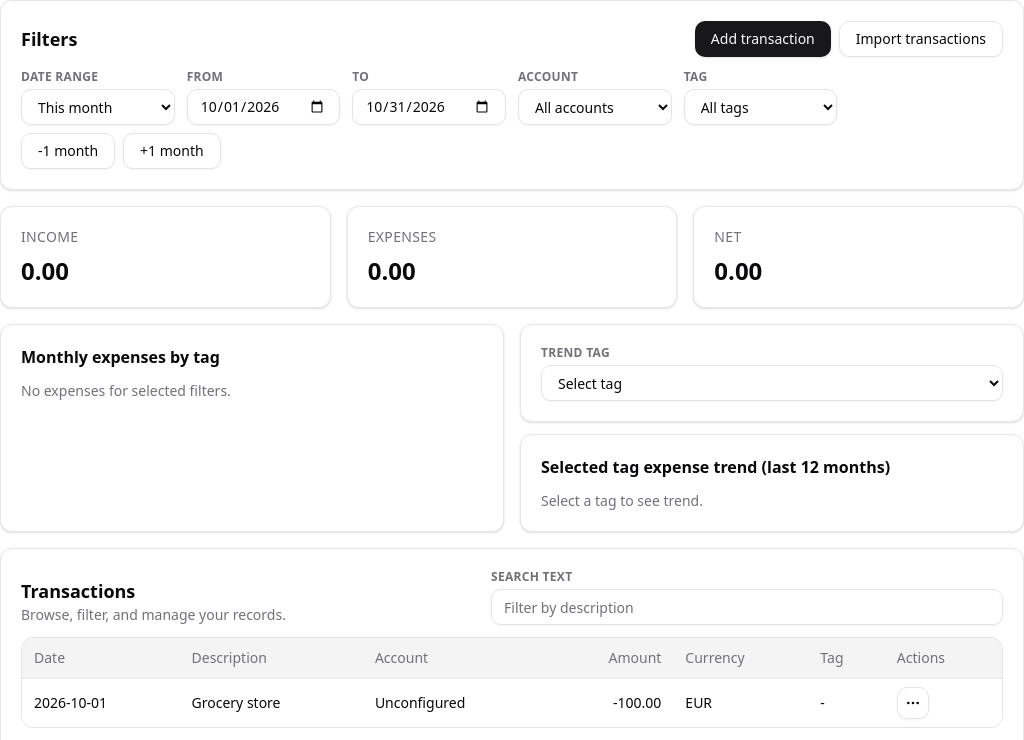
Test: TransactionsPage import dialog gating › enables Preview import with no warning for a configured account
This screenshot has width=1024, height=740.
Expected: the text "Grocery store" is shown, [180,678,363,726]
Click the button "Import transactions": (921, 39) [839,21,1003,57]
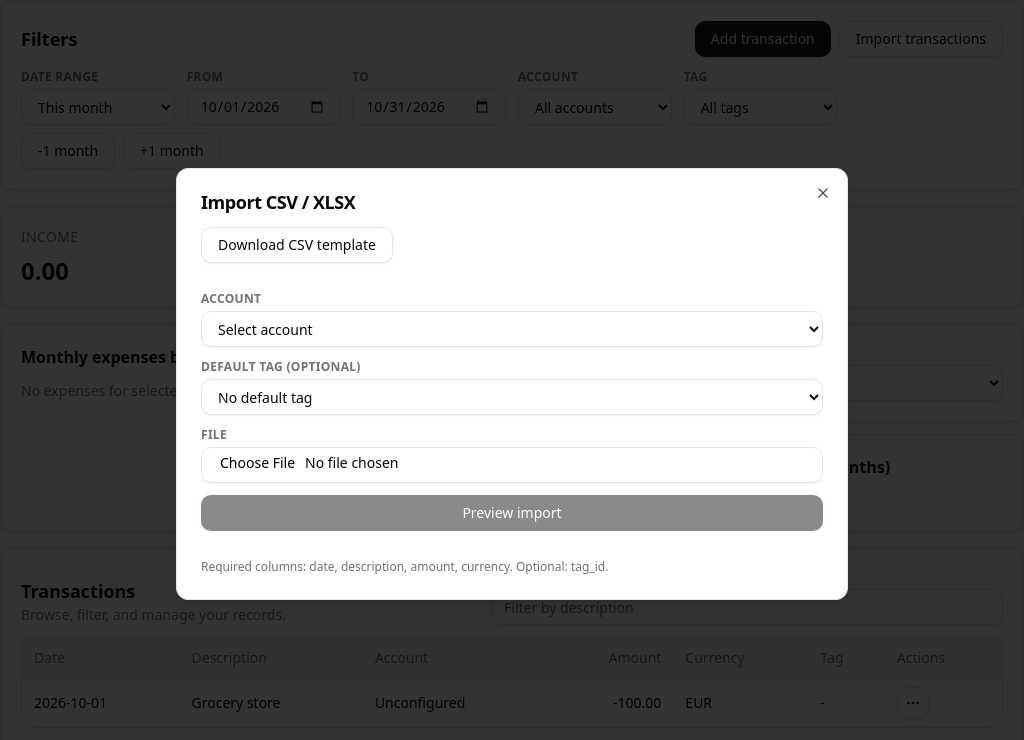
Select "Configured" in the 1st dropdown: (512, 329) [201,311,823,347]
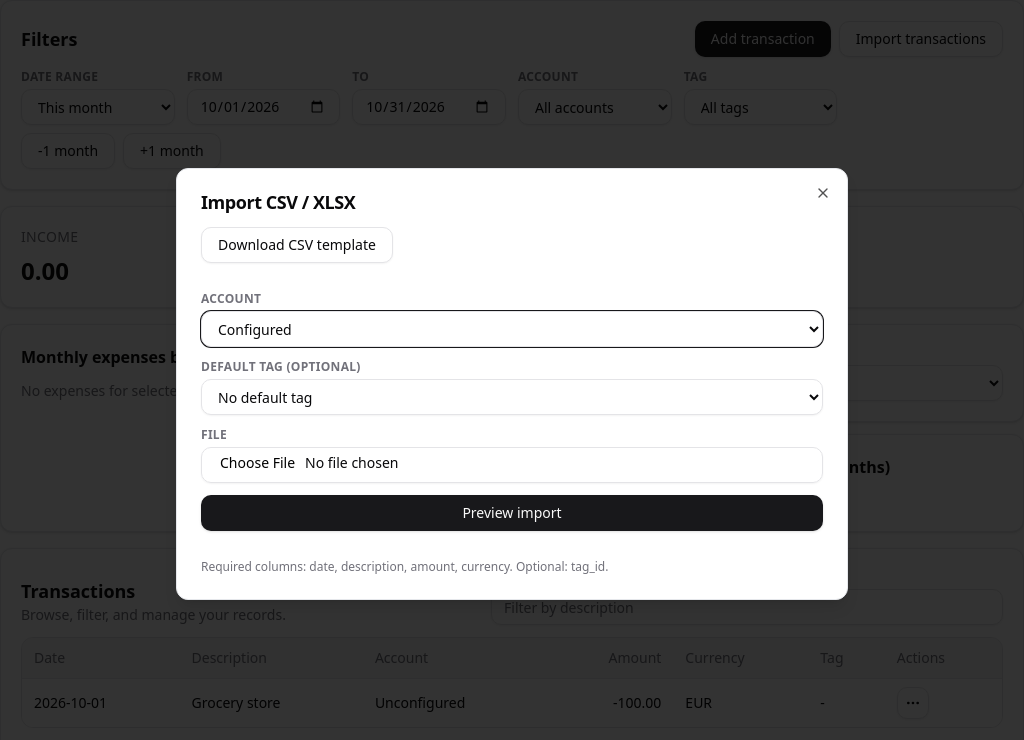
Expected: the button "Preview import" is enabled, [201,495,823,531]
